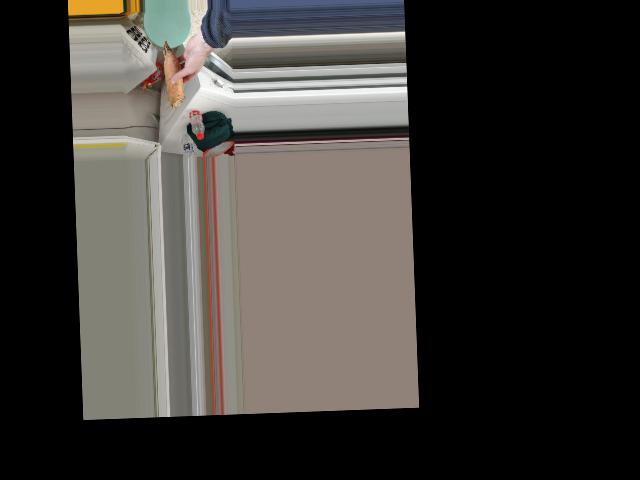sweet_potato: (164, 39, 182, 111)
